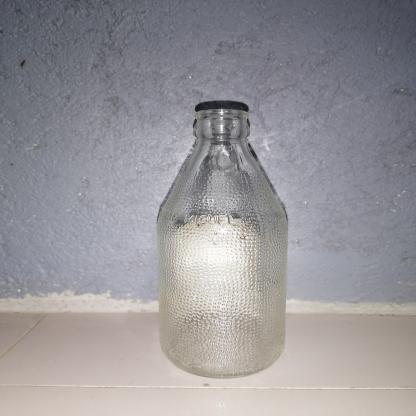Can: (155, 106, 290, 381)
